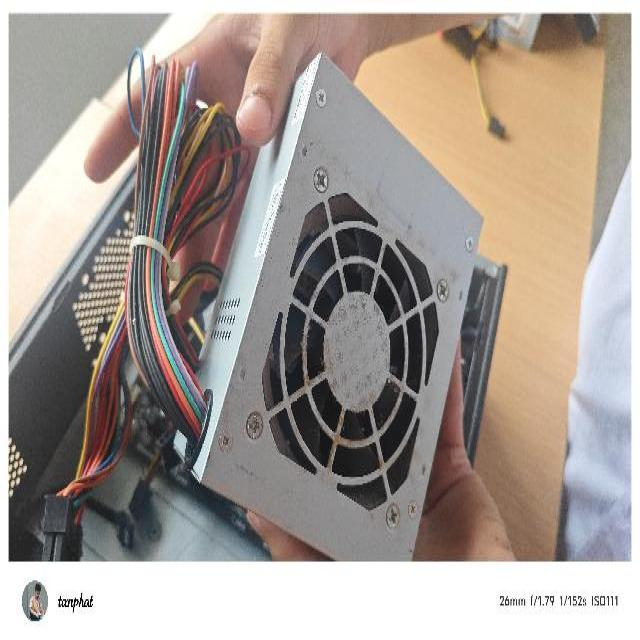PSU: (170, 47, 484, 557)
